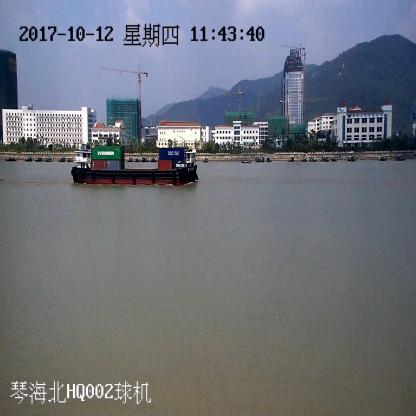Container Ship: (72, 144, 197, 187)
